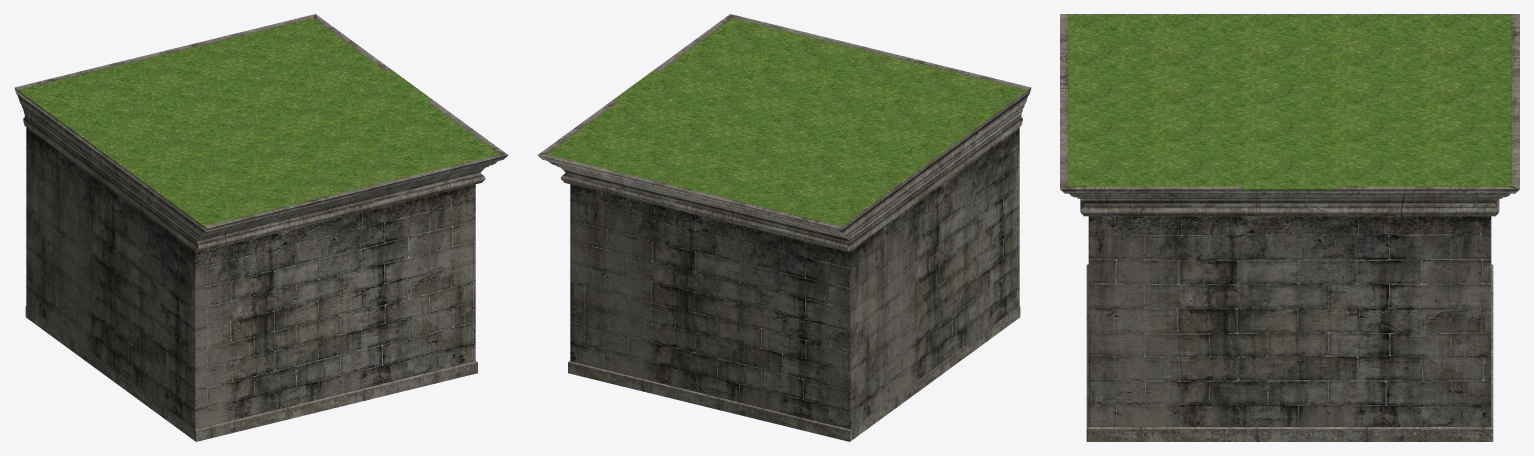
Rendered from SM_PlatformSquare.FBX.
3 views of the same model, side by side, from view 1: azimuth 30°, elevation 25°; view 2: azimuth 150°, elevation 25°; view 3: azimuth 270°, elevation 25° (orthographic). The views are drawn at different scales.
Parts seen in each view (by area): view 1: SM_PlatformSquare; view 2: SM_PlatformSquare; view 3: SM_PlatformSquare.
Boxes of the visible parts, x1,y1,x2,y2 form: SM_PlatformSquare: [14, 14, 508, 441]; SM_PlatformSquare: [537, 14, 1031, 441]; SM_PlatformSquare: [1060, 14, 1519, 441].
Size of the model in its own units: 1333 by 937 by 1479.
